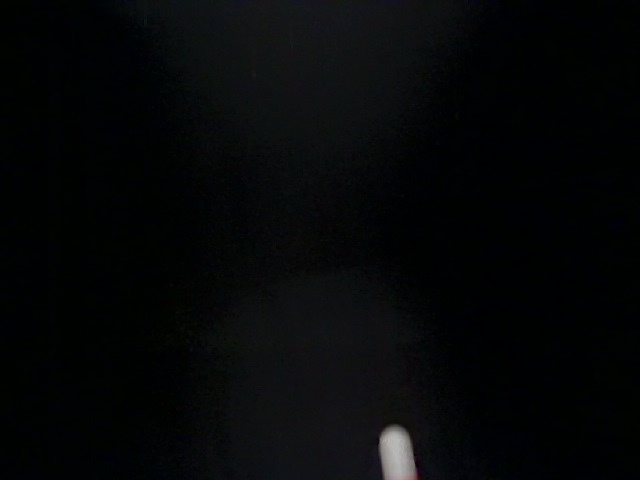YHLJ: (453, 287, 560, 352)
